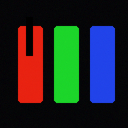4 line_v: (26, 17, 32, 55)
